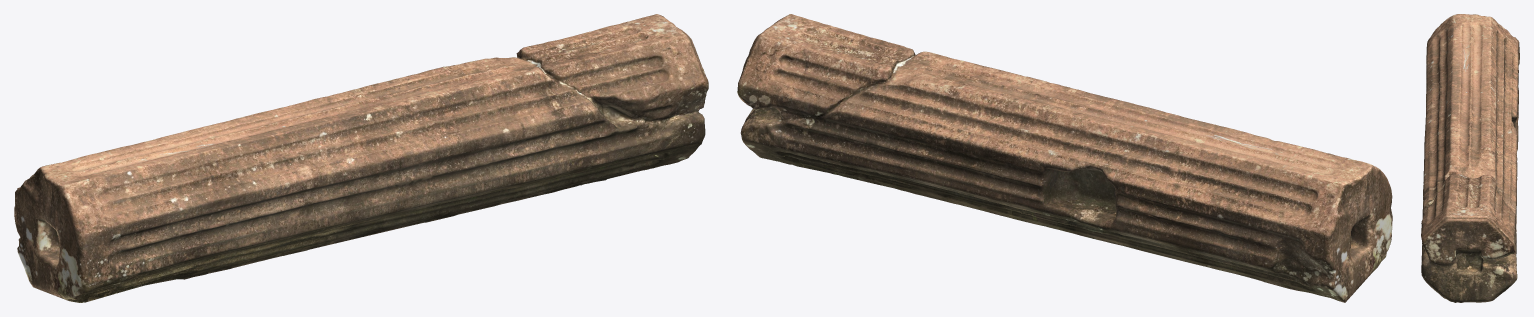
The model's file is 30_MysonSanctuaryB_Trucot_final.glb.
3 renders of one model, left to right at view 1: azimuth 30°, elevation 25°; view 2: azimuth 150°, elevation 25°; view 3: azimuth 270°, elevation 25°, orthographic. The views are drawn at different scales.
Bounding box in the file's own units: 2.52 × 0.4937 × 0.5054.
Materials: 1 (1 with a texture image).
